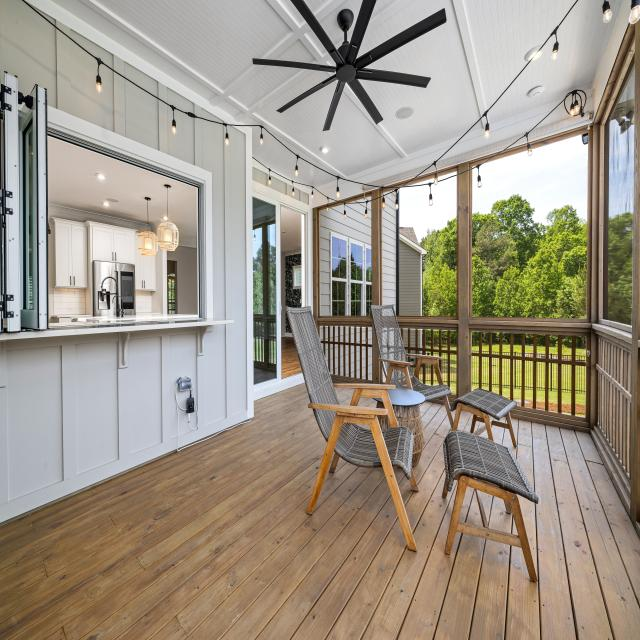floor: (0, 381, 640, 640)
wall: (25, 0, 247, 125), (320, 201, 371, 316), (167, 245, 198, 314), (382, 191, 396, 316), (281, 250, 301, 337), (399, 239, 421, 316), (285, 253, 302, 308), (54, 288, 86, 315), (151, 243, 163, 314), (135, 290, 152, 313), (162, 250, 167, 314), (175, 261, 178, 314), (368, 347, 372, 380), (362, 346, 366, 379), (356, 346, 360, 378), (345, 345, 349, 377), (340, 345, 344, 376), (351, 345, 354, 377), (335, 344, 338, 375), (410, 329, 415, 347), (403, 329, 408, 347), (330, 344, 333, 374), (325, 343, 328, 367), (345, 326, 349, 343), (362, 327, 366, 344), (368, 327, 372, 344), (356, 327, 360, 343), (418, 330, 421, 348), (335, 326, 338, 342), (340, 326, 343, 342), (351, 327, 354, 343), (325, 326, 328, 341), (330, 326, 333, 341), (321, 326, 323, 341), (321, 343, 323, 351)
